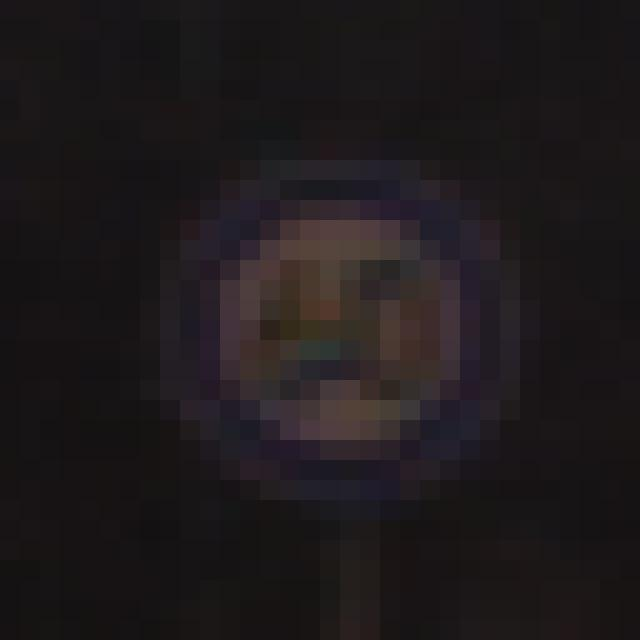SPEED-LIMIT-60: (148, 144, 543, 538)
